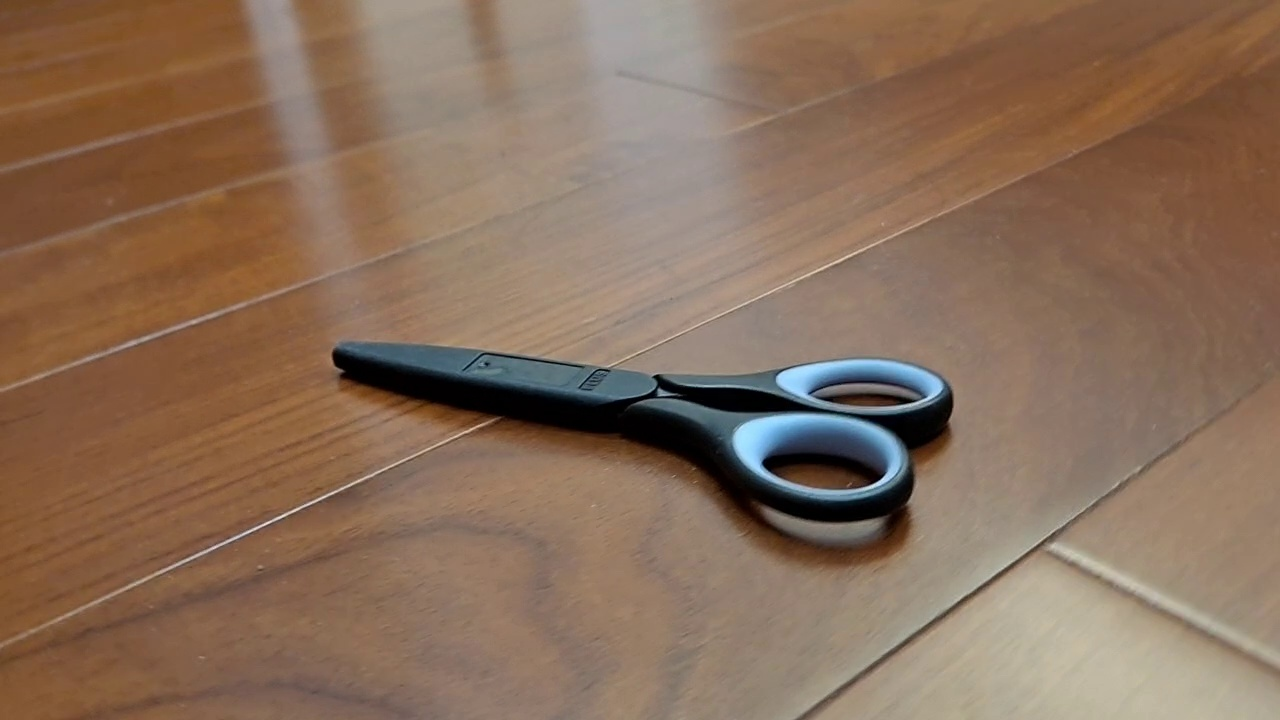scissors: (331, 339, 954, 524)
